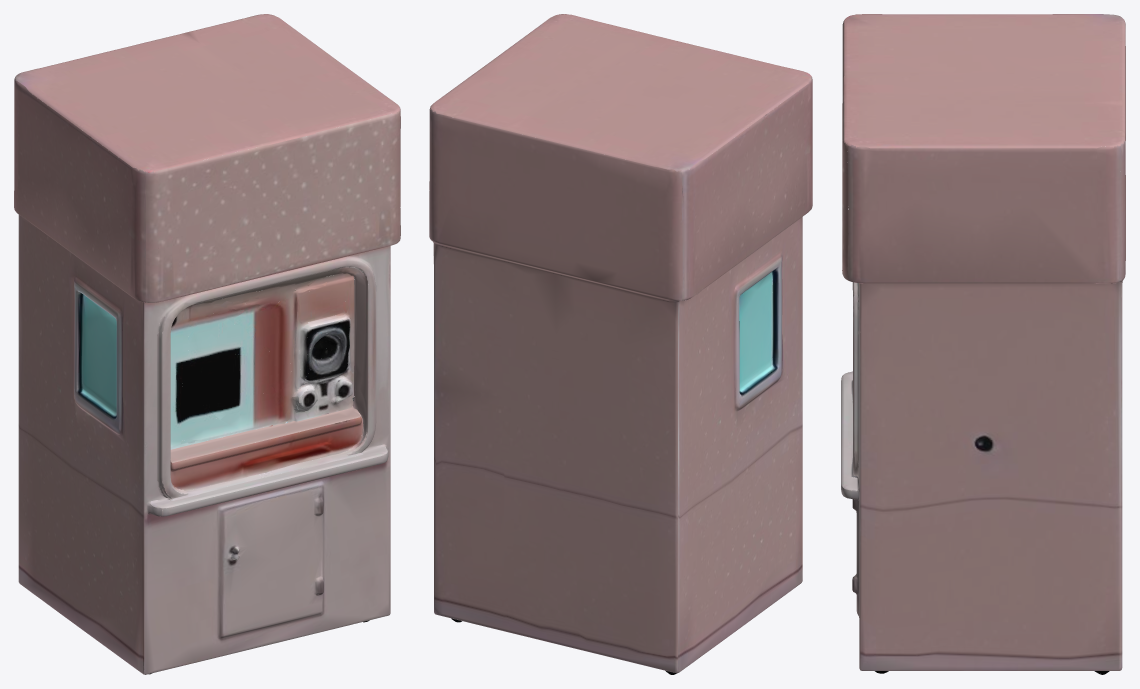
The model's file is photo.glb.
The picture shows the model from 3 angles, left to right: view 1: azimuth 30°, elevation 25°; view 2: azimuth 150°, elevation 25°; view 3: azimuth 270°, elevation 25°; orthographic projection. The views are drawn at different scales.
Parts seen in each view (by area): view 1: photo; view 2: photo; view 3: photo.
Part boxes in pixels (<box>): photo: <box>14,14,400,674</box>; photo: <box>429,14,812,674</box>; photo: <box>841,14,1125,674</box>.
Bounding box in the file's own units: 1.22 × 2.3 × 1.1.
1 material, 1 textured.
